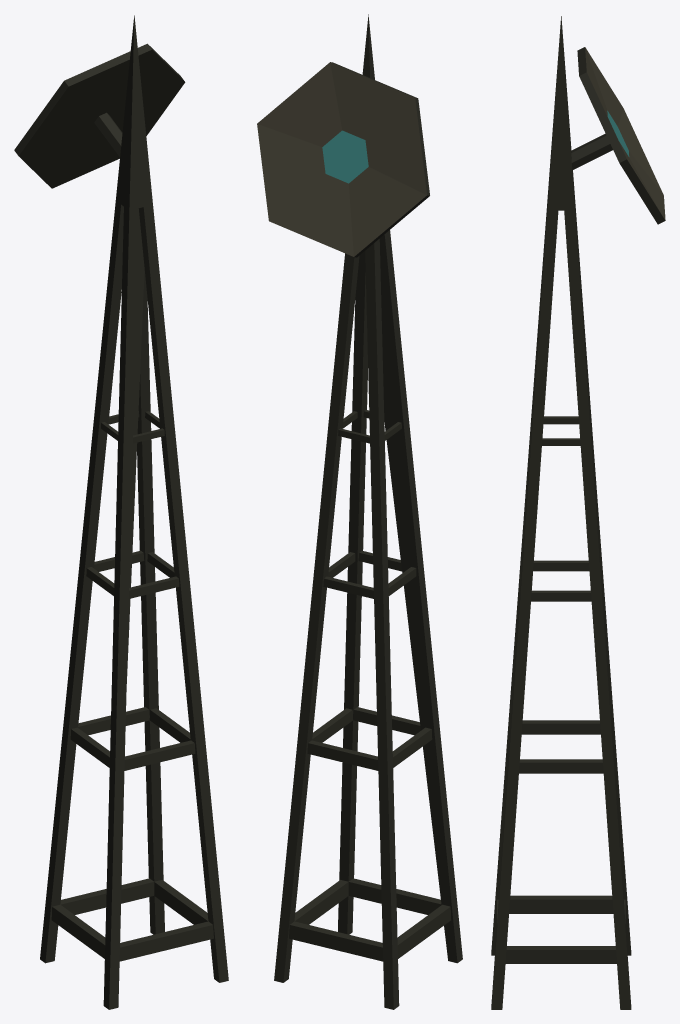
The model's file is comm_tower.glb.
The picture shows the model from 3 angles, left to right: view 1: azimuth 30°, elevation 25°; view 2: azimuth 150°, elevation 25°; view 3: azimuth 270°, elevation 25°; orthographic projection.
Visible parts, largest first — view 1: Cone; view 2: Cone; view 3: Cone.
Boxes of the visible parts, x1,y1,x2,y2 form: Cone: (14, 15, 228, 1009); Cone: (257, 14, 462, 1009); Cone: (491, 16, 665, 1009).
Size of the model in its own units: 1.23 by 6.66 by 1.09.
1 material, 1 textured.
